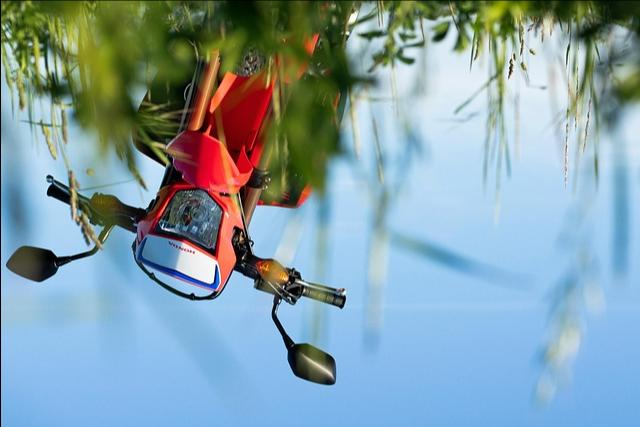Non_Gorille: (22, 6, 440, 406)
